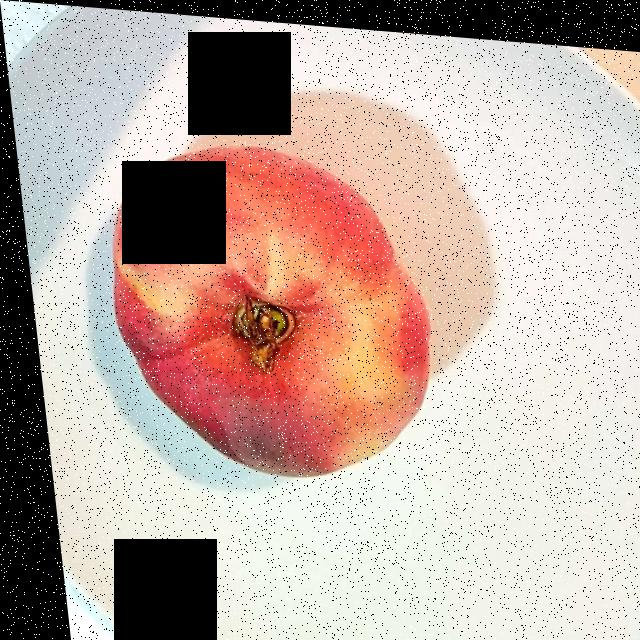peach: (108, 145, 422, 466)
